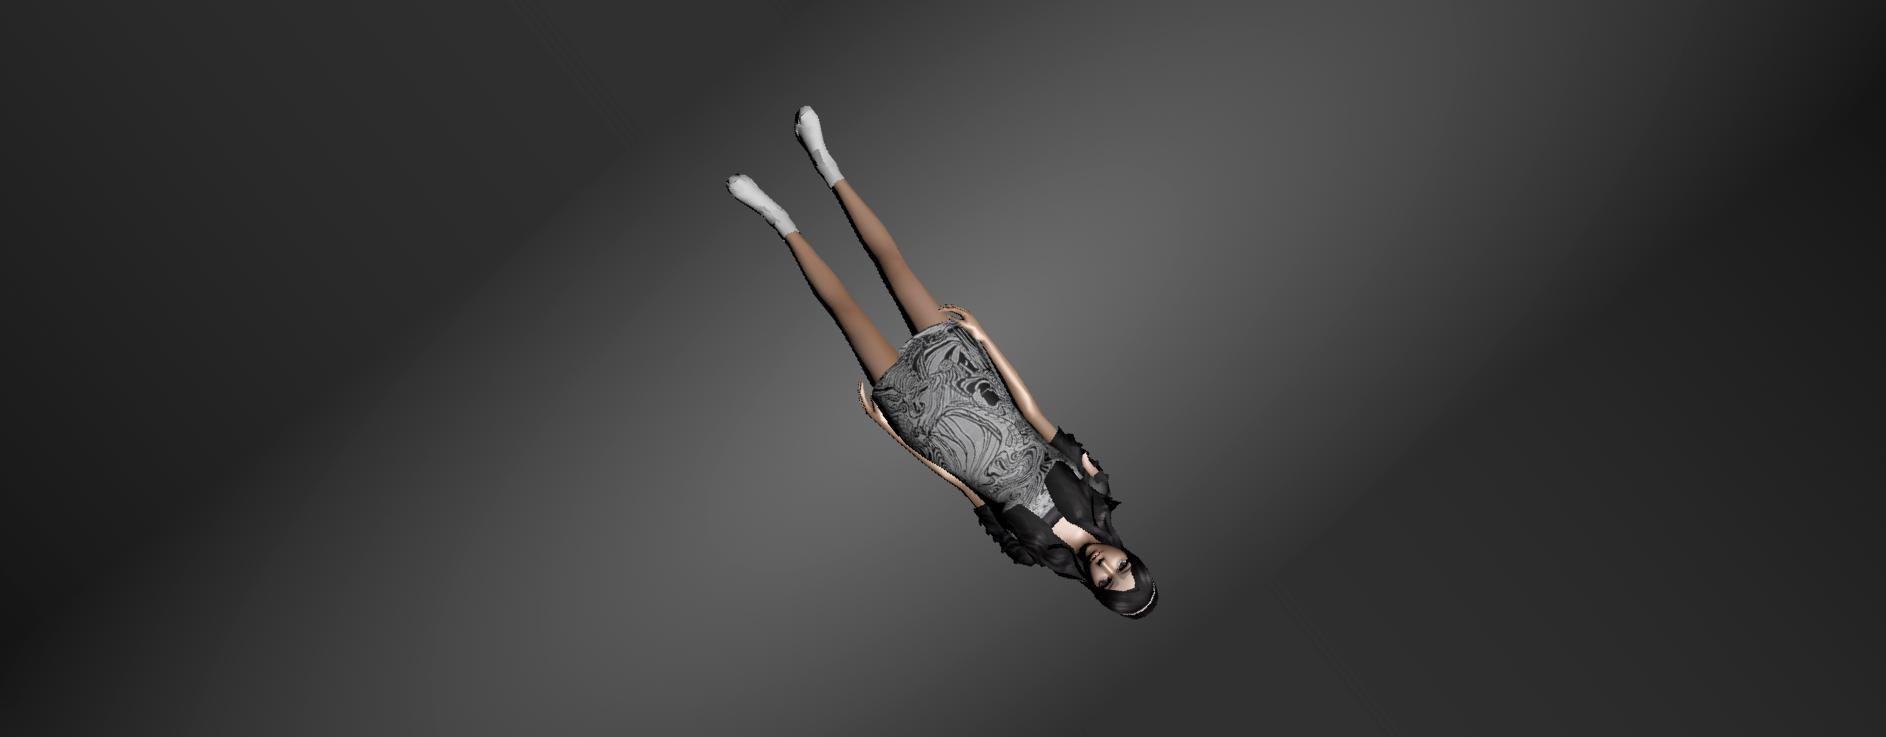clip: (1068, 452, 1102, 486)
